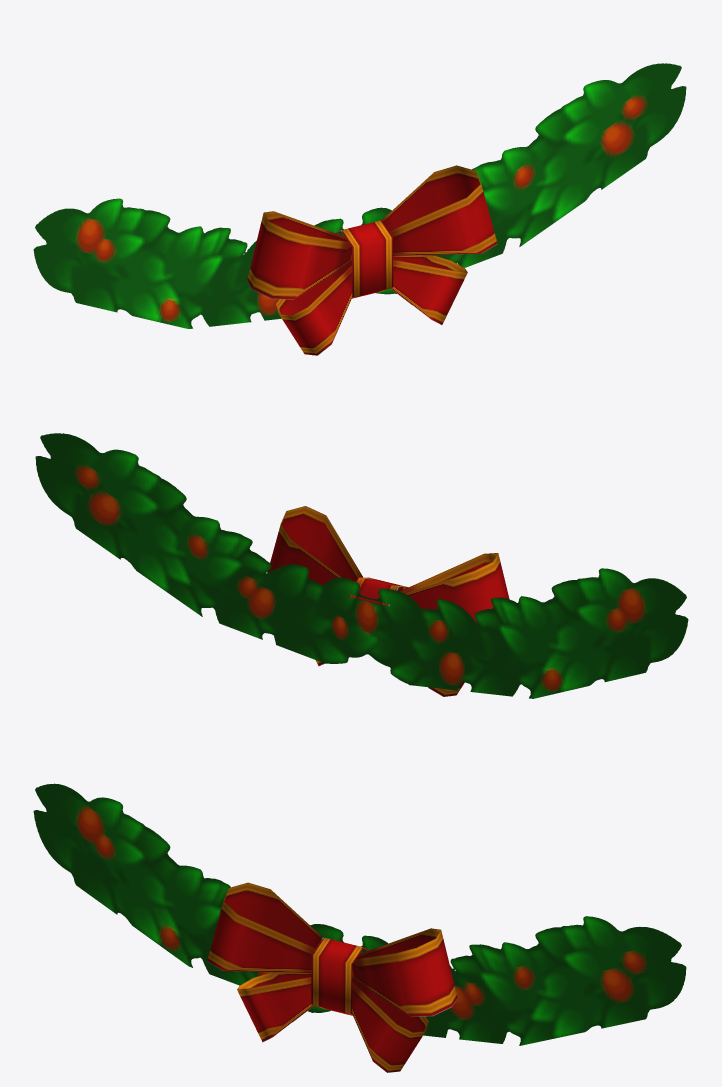
File: Decoration_Ribbon.FBX
3 views of the same model, one above another, from view 1: azimuth 30°, elevation 25°; view 2: azimuth 150°, elevation 25°; view 3: azimuth 330°, elevation 25° (orthographic).
Visible parts, largest first — view 1: Object580, Object581; view 2: Object580, Object581; view 3: Object580, Object581.
Boxes of the visible parts, <box> form: Object580: <box>33,63,686,328</box>; Object581: <box>247,165,497,355</box>; Object580: <box>35,433,688,698</box>; Object581: <box>268,506,509,696</box>; Object580: <box>33,783,686,1045</box>; Object581: <box>207,882,457,1072</box>.
Size of the model in its own units: 38.91 by 12.78 by 3.54.
2 materials, 2 textured.
